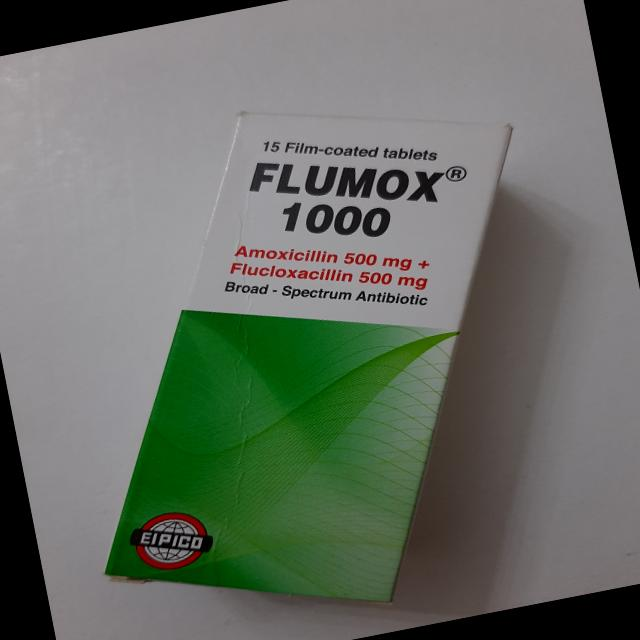medicine_packaging: (15, 40, 640, 640)
